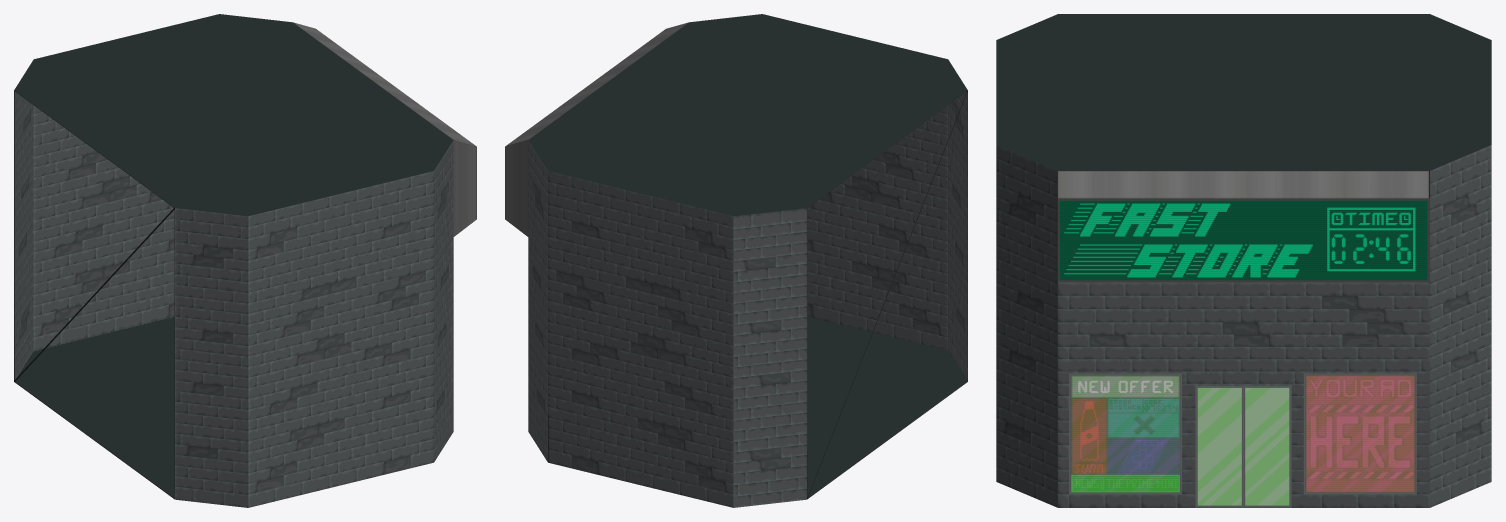
Rendered from House.fbx.
3 renders of one model, left to right at view 1: azimuth 30°, elevation 25°; view 2: azimuth 150°, elevation 25°; view 3: azimuth 270°, elevation 25°, orthographic. The views are drawn at different scales.
Visible parts, largest first — view 1: Cube; view 2: Cube; view 3: Cube.
Boxes of the visible parts, x1,y1,x2,y2 form: Cube: (14, 14, 476, 507); Cube: (505, 14, 967, 507); Cube: (996, 14, 1491, 507).
Bounding box in the file's own units: 650 × 600 × 800.
